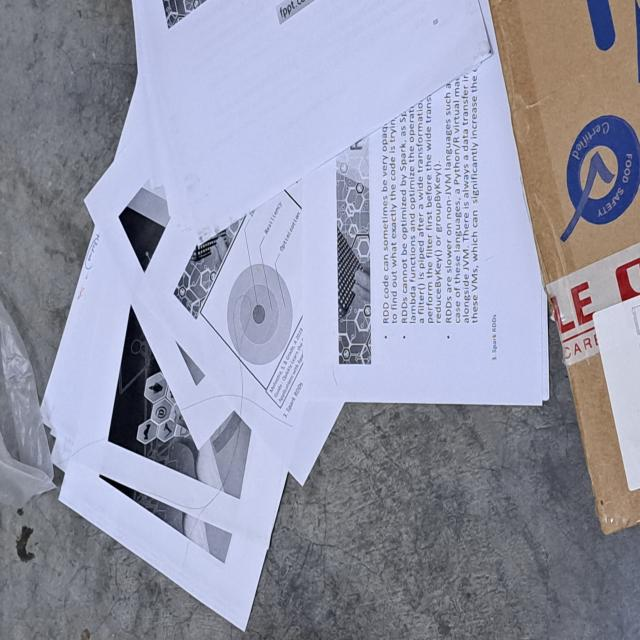cardboard: (486, 0, 640, 533)
paper: (36, 0, 555, 632)
